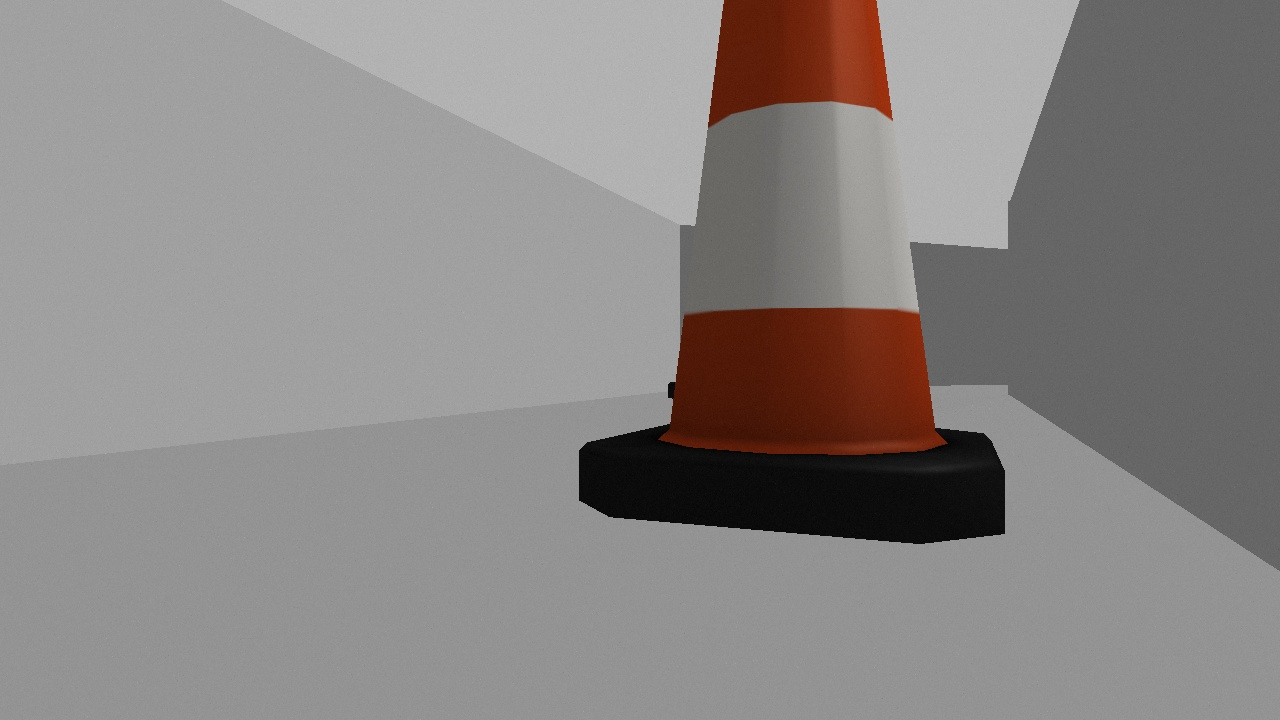barricade: (577, 1, 1010, 545)
